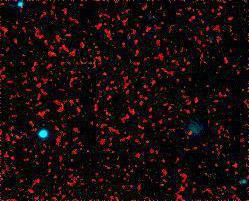star: (147, 116, 177, 146)
